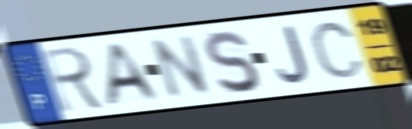A: (103, 41, 164, 109)
C: (309, 20, 365, 81)
J: (274, 23, 312, 86)
N: (149, 32, 213, 101)
R: (39, 44, 109, 115)
S: (202, 28, 261, 97)
